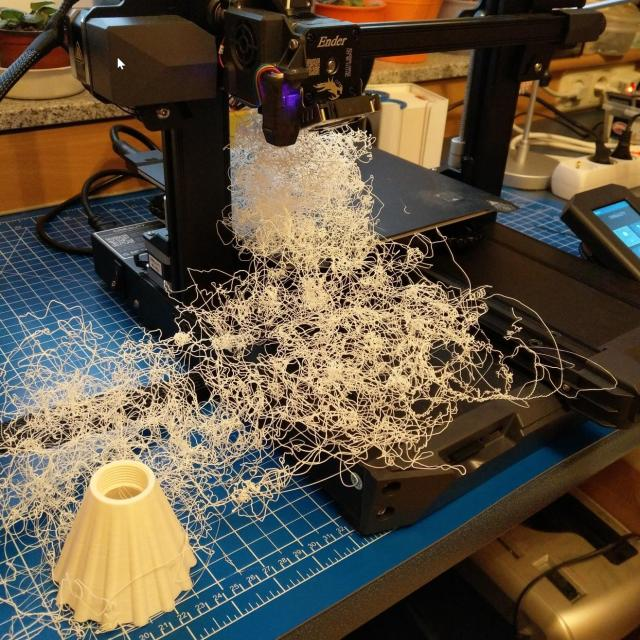spaghetti: (216, 145, 550, 501)
